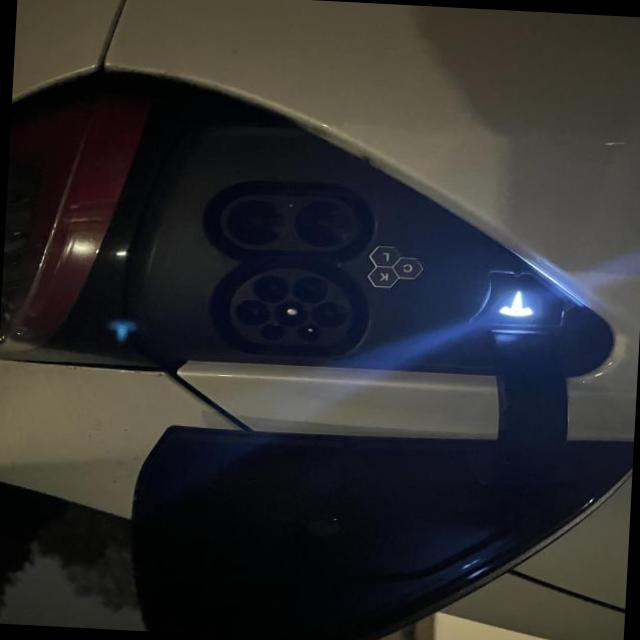inlet: (229, 268, 351, 345)
inlet-above-left: (296, 324, 324, 342)
inlet-above-right: (258, 323, 284, 340)
inlet-below-left: (291, 276, 327, 303)
inlet-below-right: (252, 275, 288, 302)
inlet-center: (273, 300, 307, 326)
inlet-center-left: (311, 302, 346, 327)
inlet-center-right: (233, 300, 269, 325)
